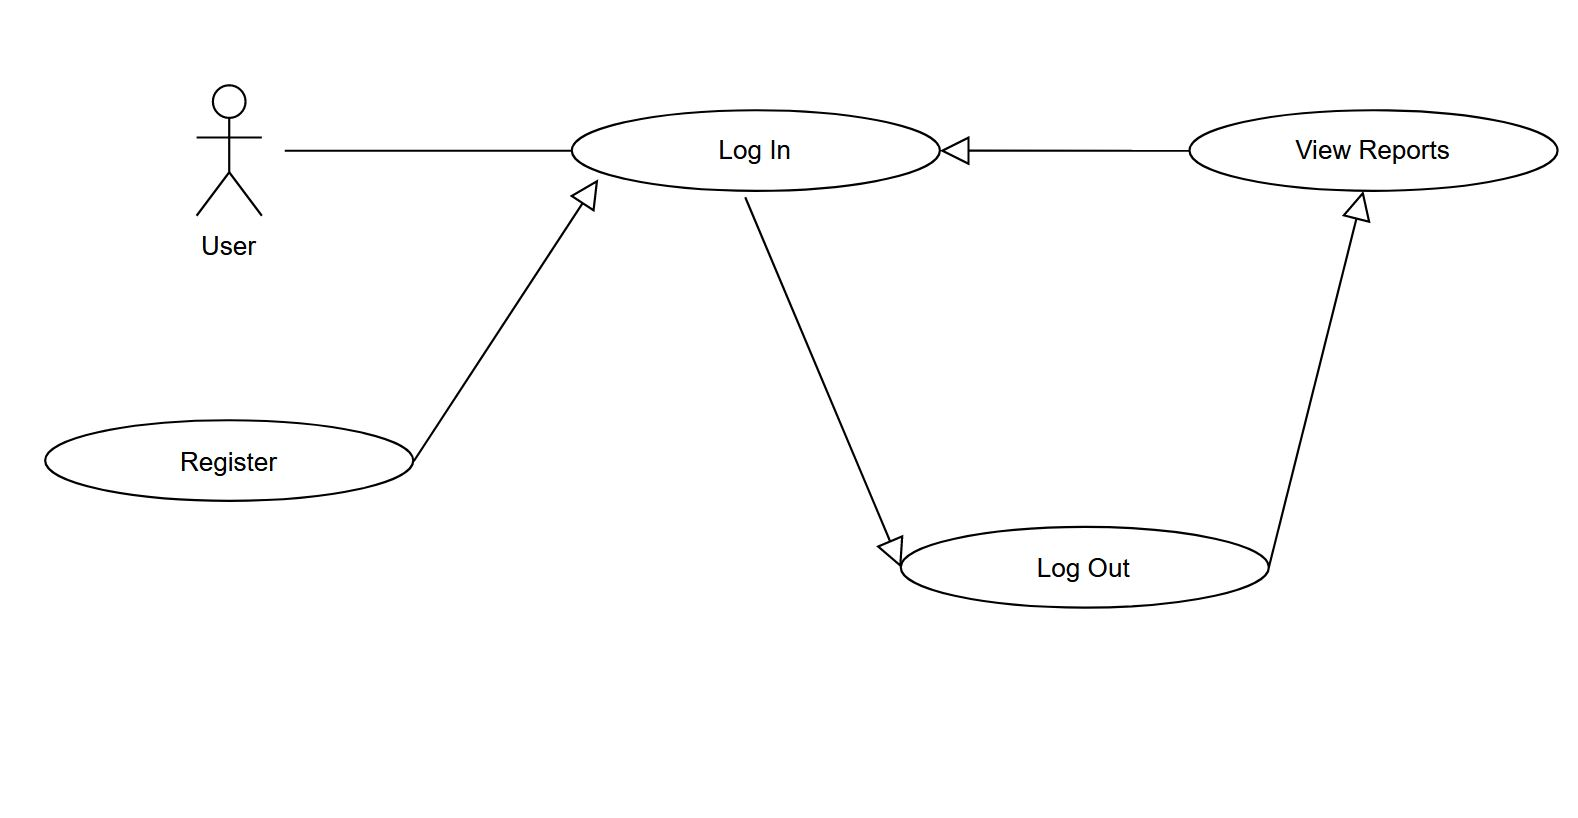actor: (193, 81, 268, 220)
association: (282, 133, 573, 167)
generalization: (741, 197, 905, 564), (415, 175, 603, 462), (1273, 192, 1376, 563), (939, 135, 1188, 168)
text: (1285, 133, 1461, 173), (1014, 536, 1139, 592), (175, 442, 284, 481), (710, 131, 801, 170), (196, 228, 269, 259)
use_case: (39, 417, 415, 505), (899, 524, 1273, 610), (570, 109, 941, 194), (1187, 109, 1558, 193)
